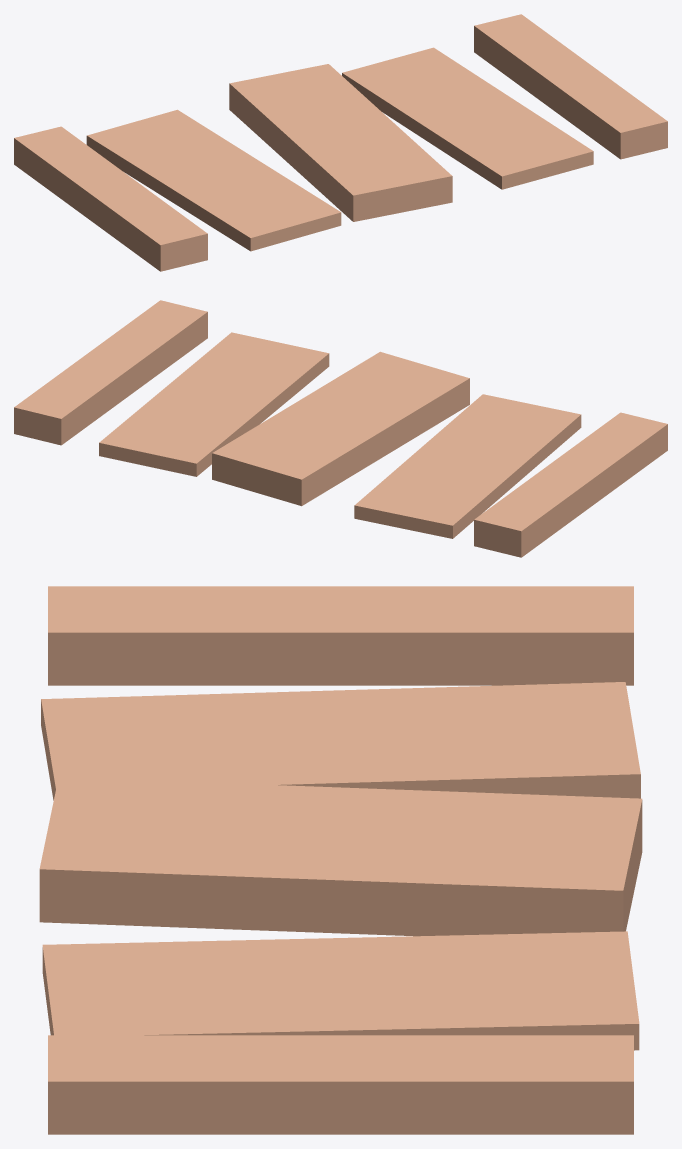
Rendered from path_wood.glb.
3 views of the same model, one above another, from view 1: azimuth 30°, elevation 25°; view 2: azimuth 150°, elevation 25°; view 3: azimuth 270°, elevation 25° (orthographic). The views are drawn at different scales.
Parts seen in each view (by area): view 1: path_wood; view 2: path_wood; view 3: path_wood.
Part boxes in pixels (x1=…): path_wood: x1=14, y1=14, x2=667, y2=271; path_wood: x1=14, y1=300, x2=667, y2=557; path_wood: x1=39, y1=586, x2=642, y2=1134.
Size of the model in its own units: 1 by 0.05 by 0.5144.
Materials: 1 (1 with a texture image).
